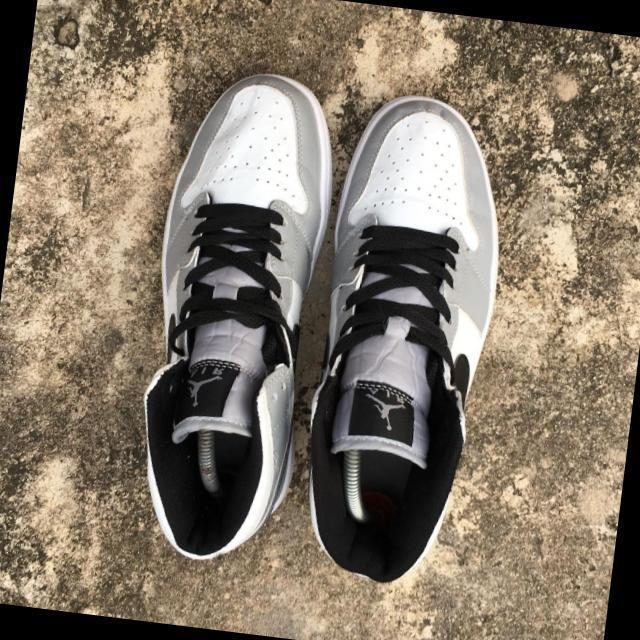nike fake jordan 1: (120, 57, 354, 573), (284, 79, 521, 588)
